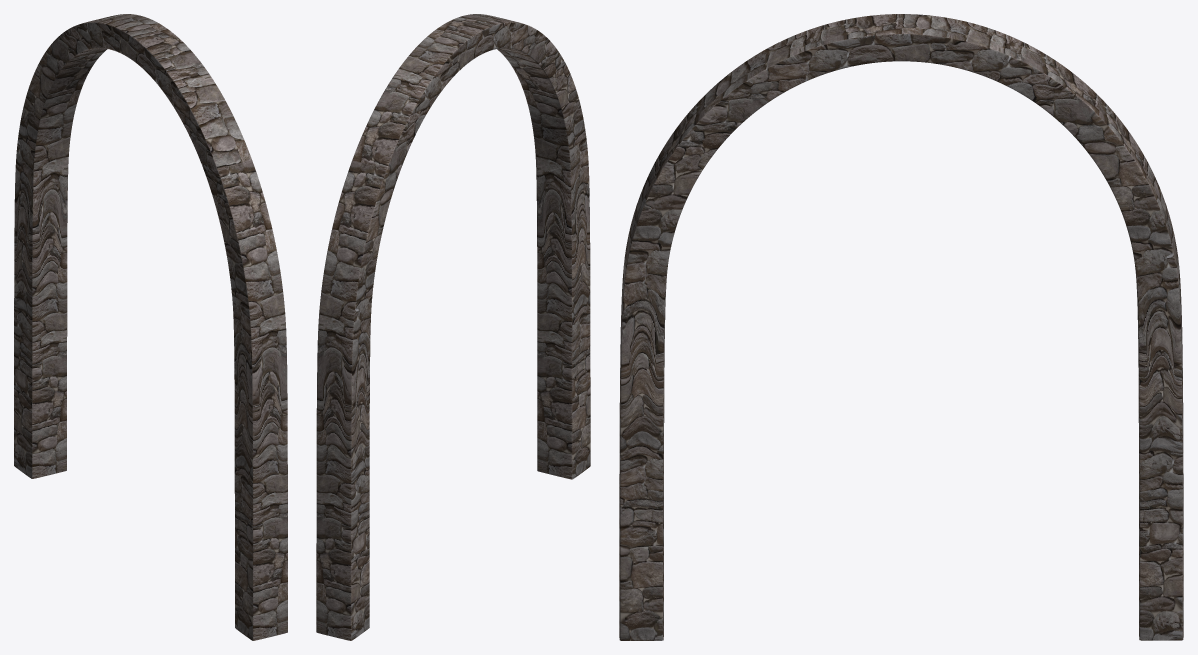
Rendered from arc.fbx.
3 renders of one model, left to right at view 1: azimuth 30°, elevation 25°; view 2: azimuth 150°, elevation 25°; view 3: azimuth 270°, elevation 25°, orthographic. The views are drawn at different scales.
Visible parts, largest first — view 1: Circle.002; view 2: Circle.002; view 3: Circle.002.
Boxes of the visible parts, box(x1,y1,x2,y2) form: Circle.002: box(14, 14, 287, 640); Circle.002: box(316, 14, 590, 640); Circle.002: box(619, 14, 1183, 640).
Size of the model in its own units: 21.8 by 299 by 252.
